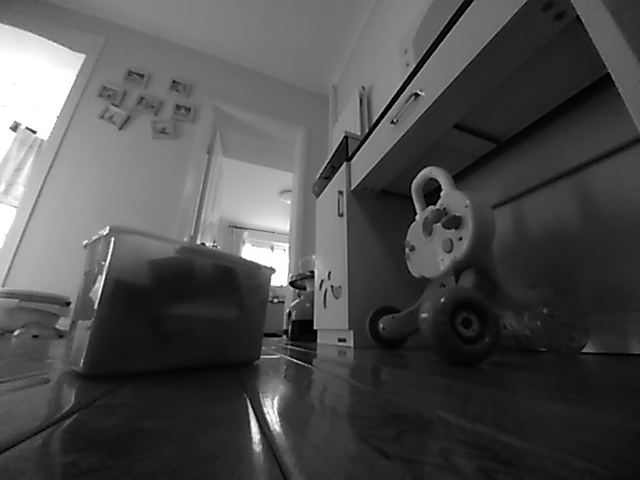others: (63, 304, 267, 373)
toy: (364, 247, 590, 363)
